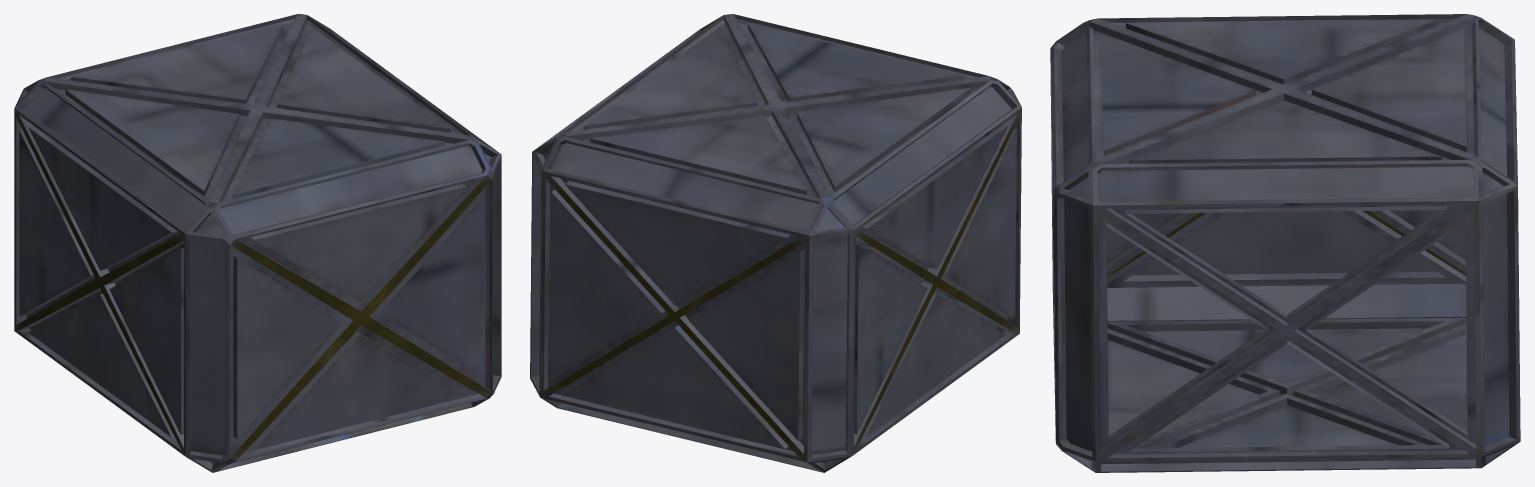
The model's file is container.glb.
The picture shows the model from 3 angles, left to right: view 1: azimuth 30°, elevation 25°; view 2: azimuth 150°, elevation 25°; view 3: azimuth 270°, elevation 25°; orthographic projection. The views are drawn at different scales.
Parts seen in each view (by area): view 1: Object_3.001; view 2: Object_3.001; view 3: Object_3.001.
Boxes of the visible parts, <box> form: Object_3.001: <box>14,14,501,472</box>; Object_3.001: <box>530,14,1021,472</box>; Object_3.001: <box>1050,14,1520,472</box>.
Size of the model in its own units: 8.48 by 6.9 by 9.42.
1 material, 1 textured.
